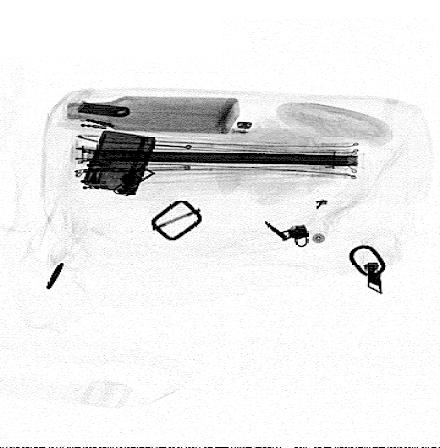Lighter: (83, 129, 156, 196)
